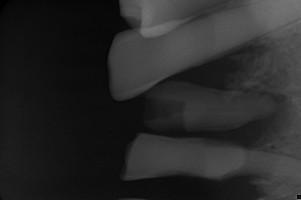Dental Caries: (253, 91, 293, 148)
